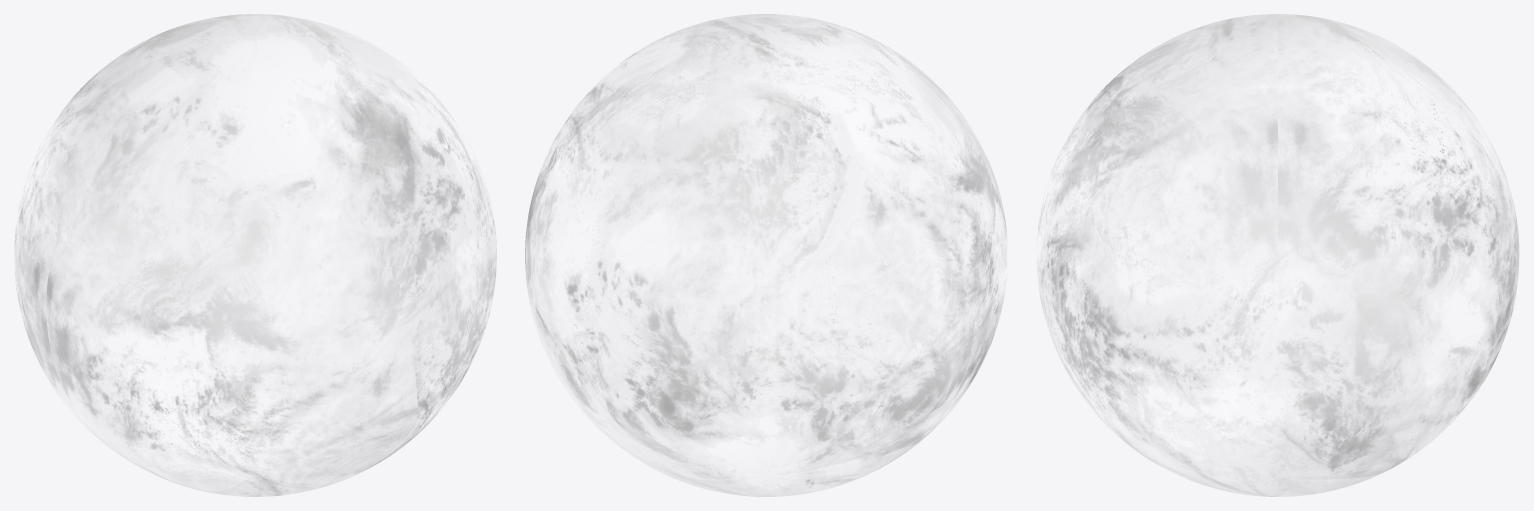
File: earth-clouds.obj
3 views of the same model, side by side, from view 1: azimuth 30°, elevation 25°; view 2: azimuth 150°, elevation 25°; view 3: azimuth 270°, elevation 25° (orthographic).
Parts seen in each view (by area): view 1: Plane_Plane.001; view 2: Plane_Plane.001; view 3: Plane_Plane.001.
Part boxes in pixels (x1,y1,x2,y2): Plane_Plane.001: (14, 14, 496, 496); Plane_Plane.001: (525, 14, 1006, 496); Plane_Plane.001: (1037, 14, 1518, 496).
Bounding box in the file's own units: 2.03 × 2.03 × 2.03.
1 material, 1 textured.
